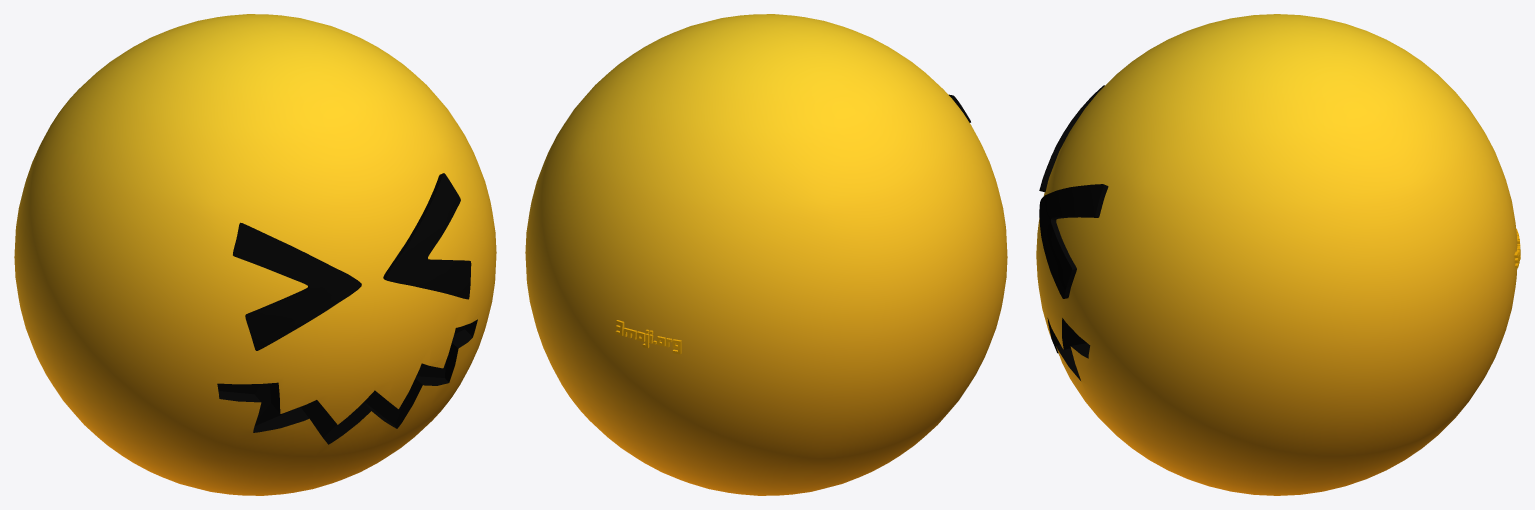
File: confounded_face.gltf
3 renders of one model, left to right at view 1: azimuth 30°, elevation 25°; view 2: azimuth 150°, elevation 25°; view 3: azimuth 270°, elevation 25°, orthographic.
Parts seen in each view (by area): view 1: Confounded Face; view 2: Confounded Face; view 3: Confounded Face.
Part boxes in pixels (bbox=[...]): Confounded Face: bbox=[14, 14, 496, 495]; Confounded Face: bbox=[525, 14, 1007, 495]; Confounded Face: bbox=[1036, 14, 1520, 495].
Bounding box in the file's own units: 1.69 × 1.69 × 1.7.
1 material, 1 textured.
